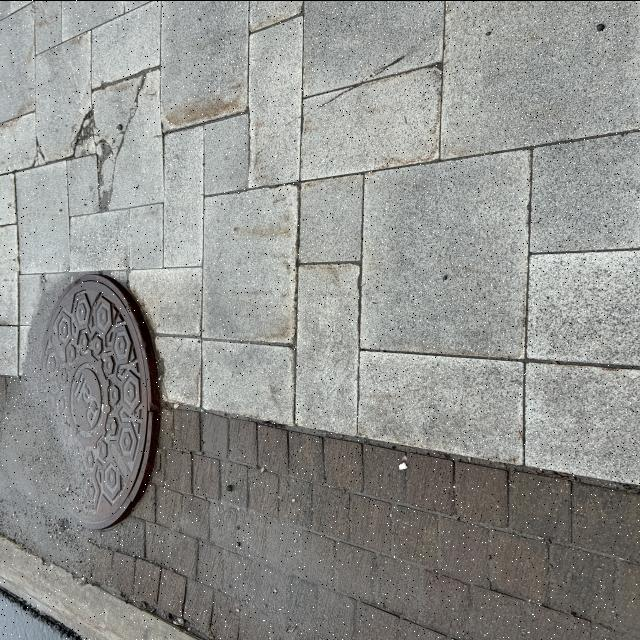Manhole: (22, 271, 162, 525)
